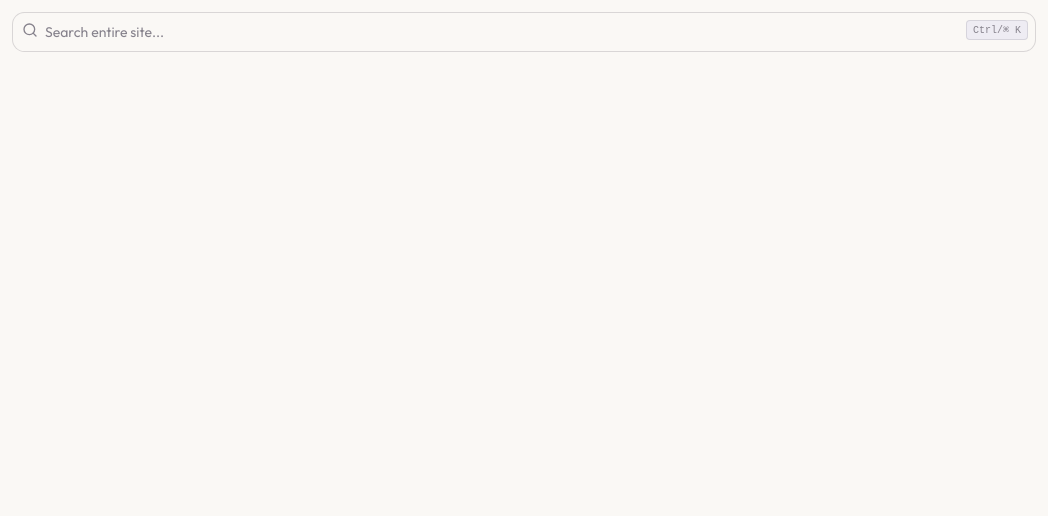
Test: SiteSearch career results › offers every role in the catalog, not a subset
The image size is (1048, 516).
Type "engineer" into the search field labelled "Search entire site..." at (524, 32), box [12,12,1036,52]
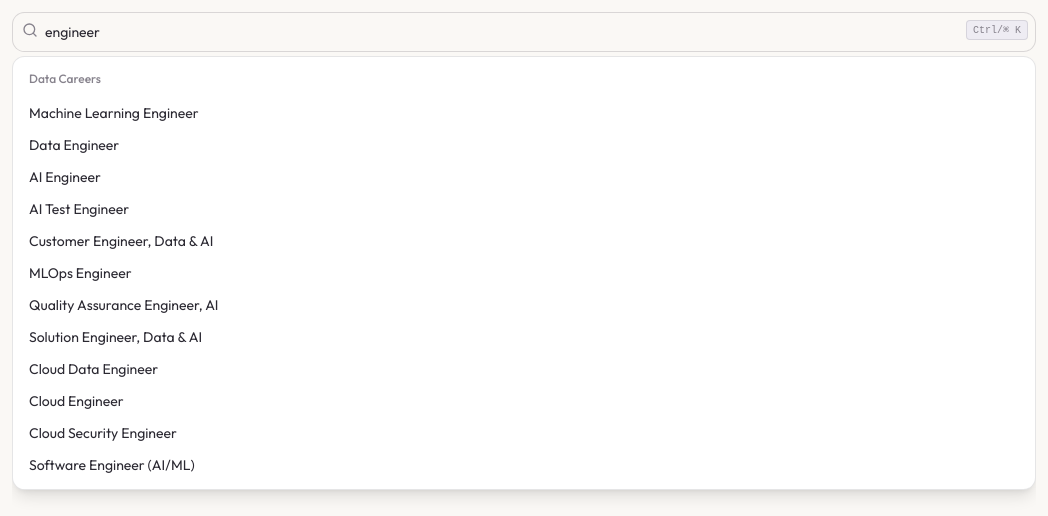
Result: the element with test id "search-result" is shown at [29,104,199,122]
Result: the text "Machine Learning Engineer" is shown at [29,103,199,123]
Result: the text "Data Engineer" is shown at [29,135,119,155]
